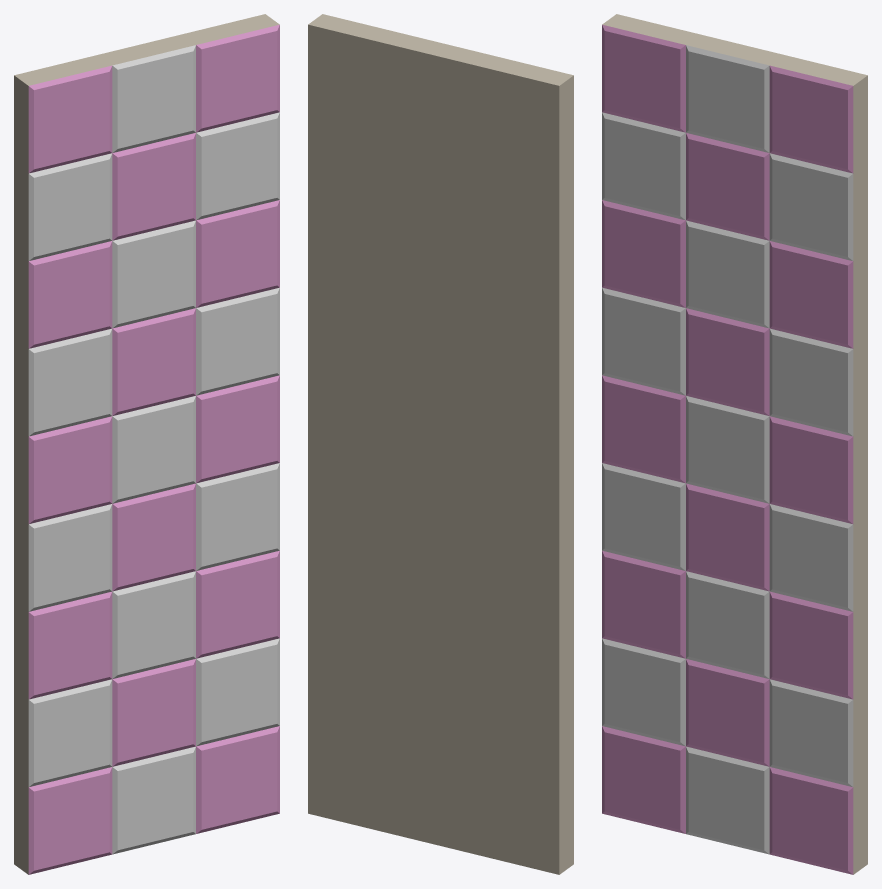
Rendered from Mesh_WallCeramic_O2.fbx.
3 renders of one model, left to right at view 1: azimuth 30°, elevation 25°; view 2: azimuth 150°, elevation 25°; view 3: azimuth 330°, elevation 25°, orthographic.
Parts seen in each view (by area): view 1: Mesh_WallCeramic_O2; view 2: Mesh_WallCeramic_O2; view 3: Mesh_WallCeramic_O2.
Boxes of the visible parts, bbox=[...] form: Mesh_WallCeramic_O2: bbox=[14, 14, 279, 874]; Mesh_WallCeramic_O2: bbox=[308, 14, 573, 874]; Mesh_WallCeramic_O2: bbox=[602, 14, 867, 874].
Bounding box in the file's own units: 1 × 3 × 0.1096.
